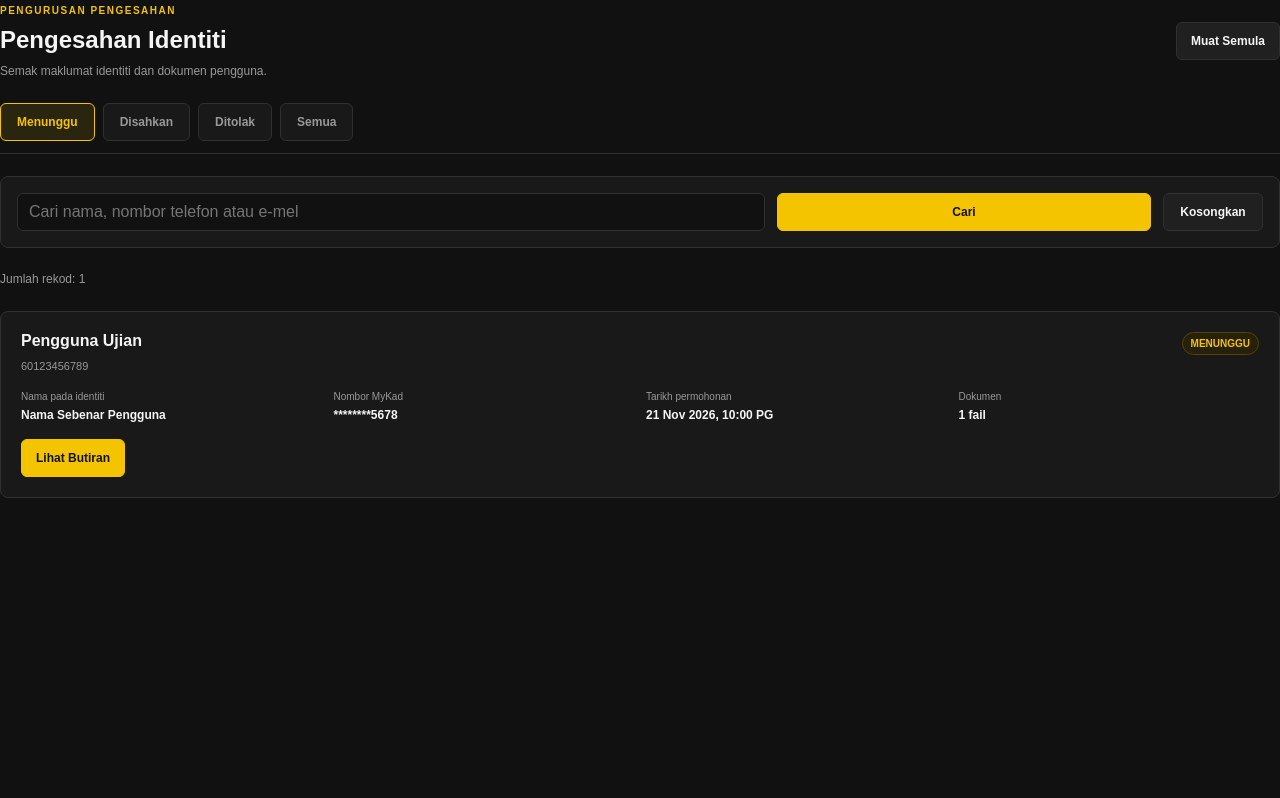
Test: IdentityVerificationsPage › mewajibkan alasan sebelum permohonan ditolak
Expected: the heading "Pengguna Ujian" is shown, x1=21 y1=332 x2=142 y2=350
Click the button "Lihat Butiran" at (73, 458), box x1=21 y1=439 x2=125 y2=477
(page scrolled)
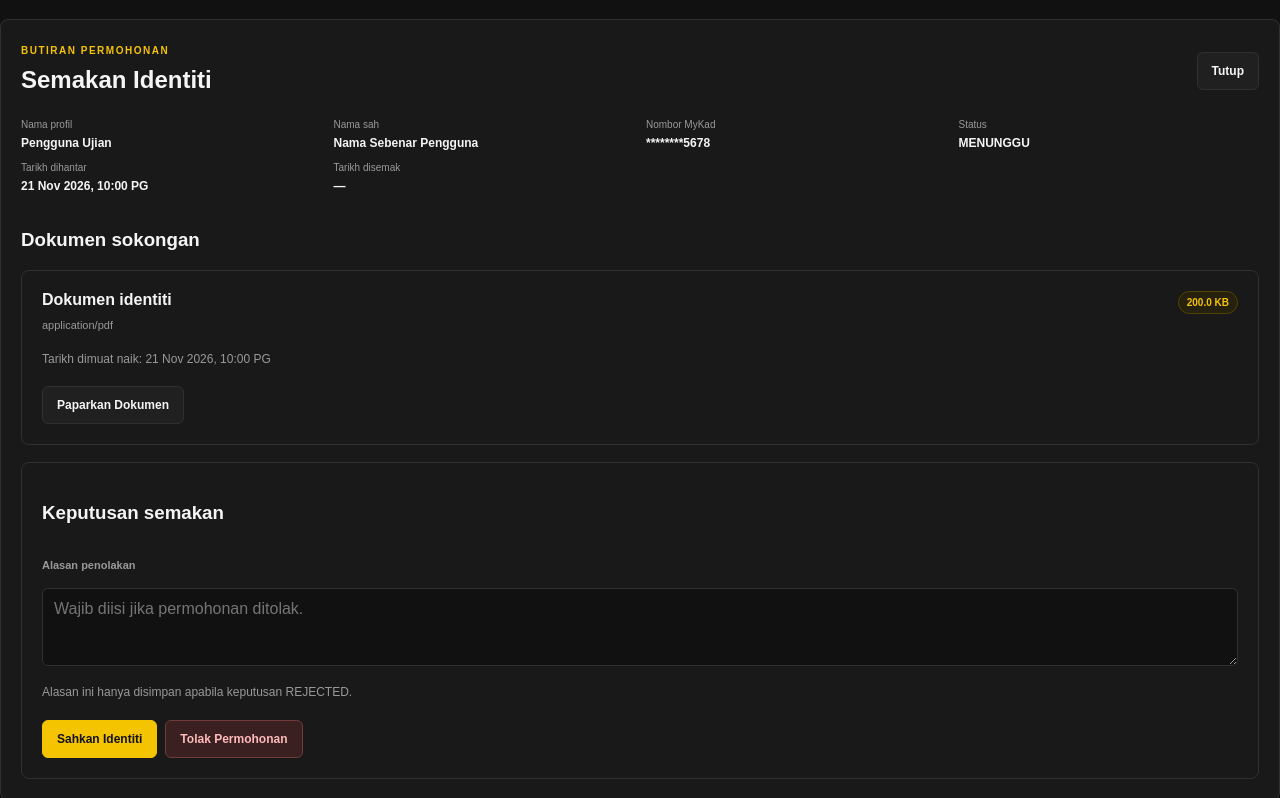
Expected: the heading "Dokumen sokongan" is shown, x1=21 y1=229 x2=200 y2=250
Click the button "Tolak Permohonan" at (234, 739), box x1=165 y1=720 x2=302 y2=758
(page scrolled)
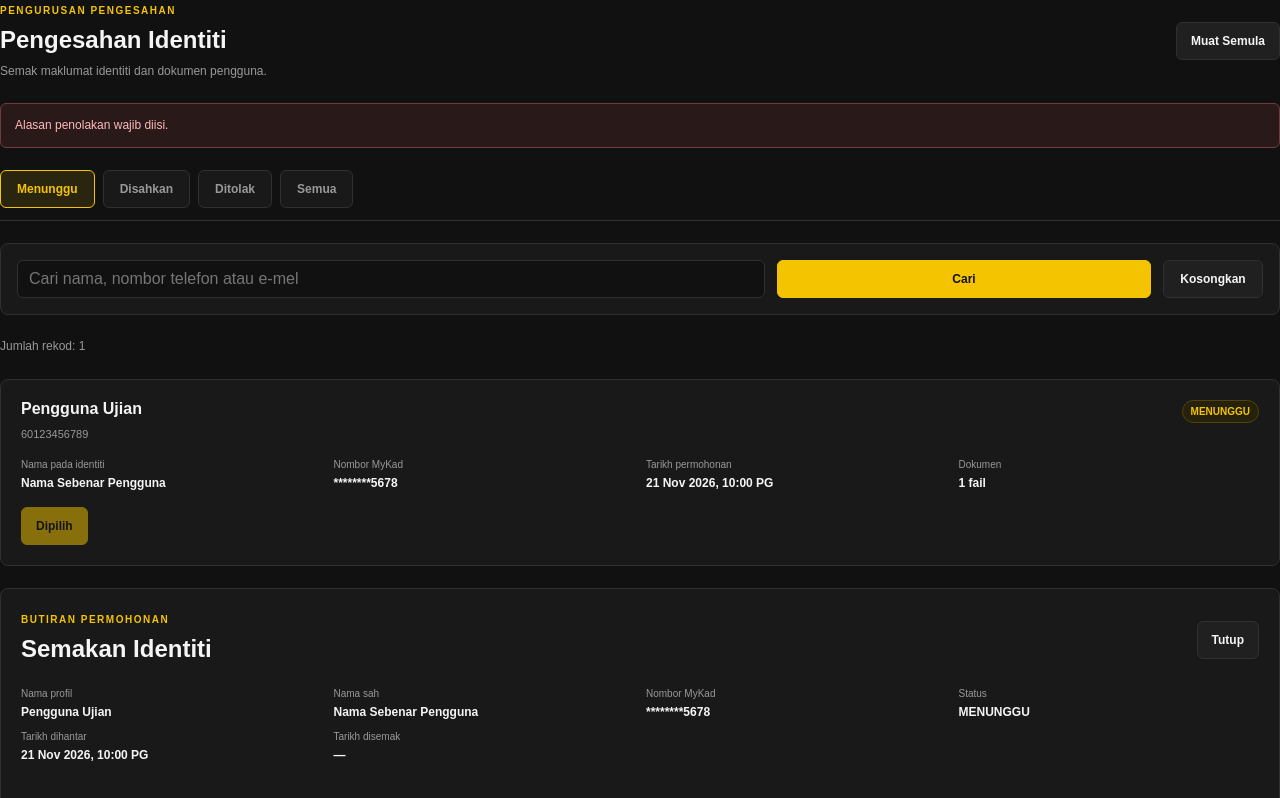
Expected: the text "Alasan penolakan wajib diisi." is shown, x1=0 y1=103 x2=1279 y2=148
